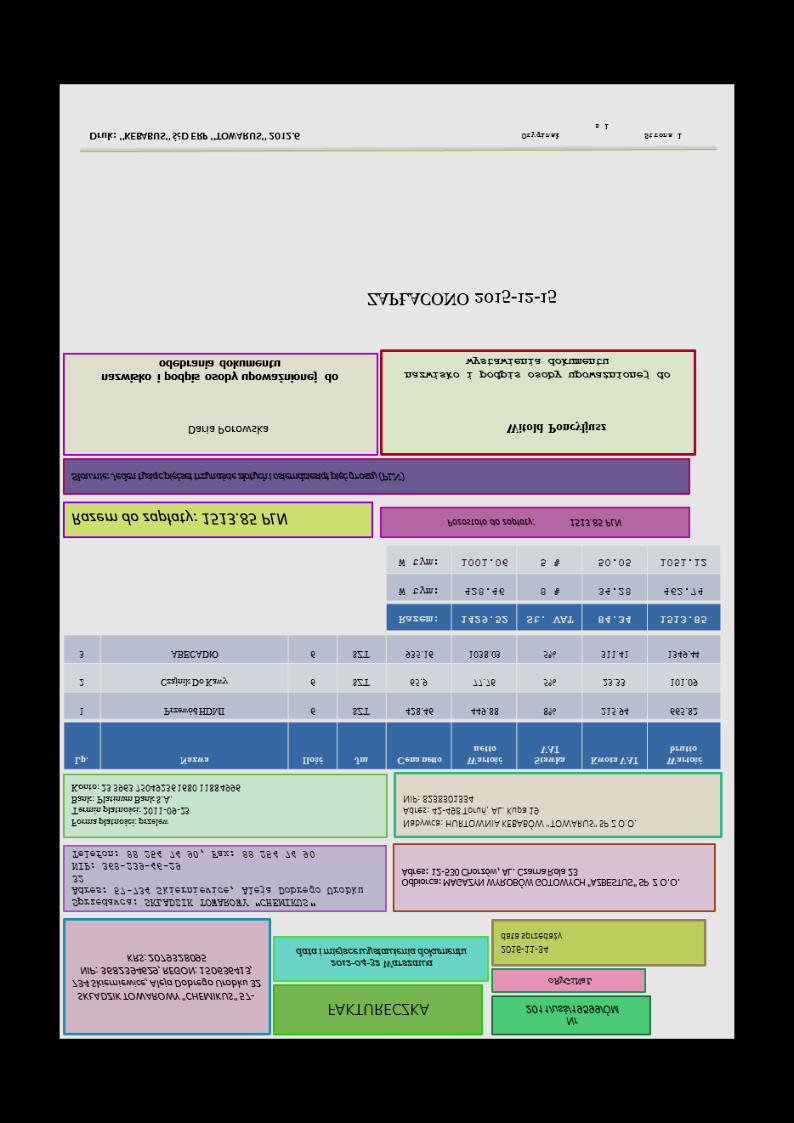Table: (62, 633, 722, 771), (383, 545, 723, 632)
TextBox: (69, 848, 366, 911), (70, 950, 263, 1005), (400, 794, 638, 831), (67, 782, 243, 831), (400, 355, 671, 383), (400, 865, 682, 889), (97, 357, 341, 384), (68, 468, 406, 487), (293, 945, 470, 970), (68, 511, 289, 531), (363, 287, 558, 309), (86, 128, 304, 146), (519, 122, 686, 141), (522, 1002, 621, 1029), (443, 517, 623, 530), (324, 1000, 433, 1019), (503, 420, 610, 437), (498, 930, 564, 956), (184, 423, 272, 440), (545, 976, 595, 989)
